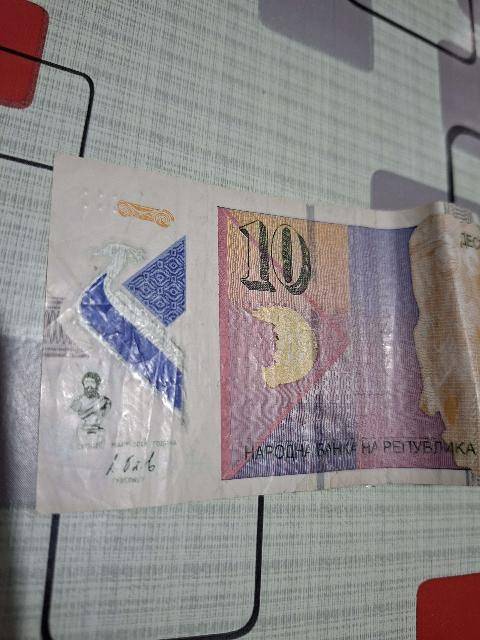note: (30, 157, 479, 512)
